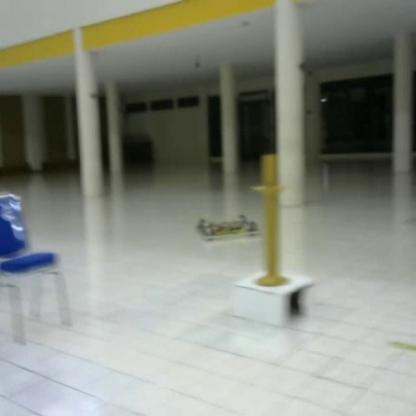pole: (250, 155, 293, 290)
